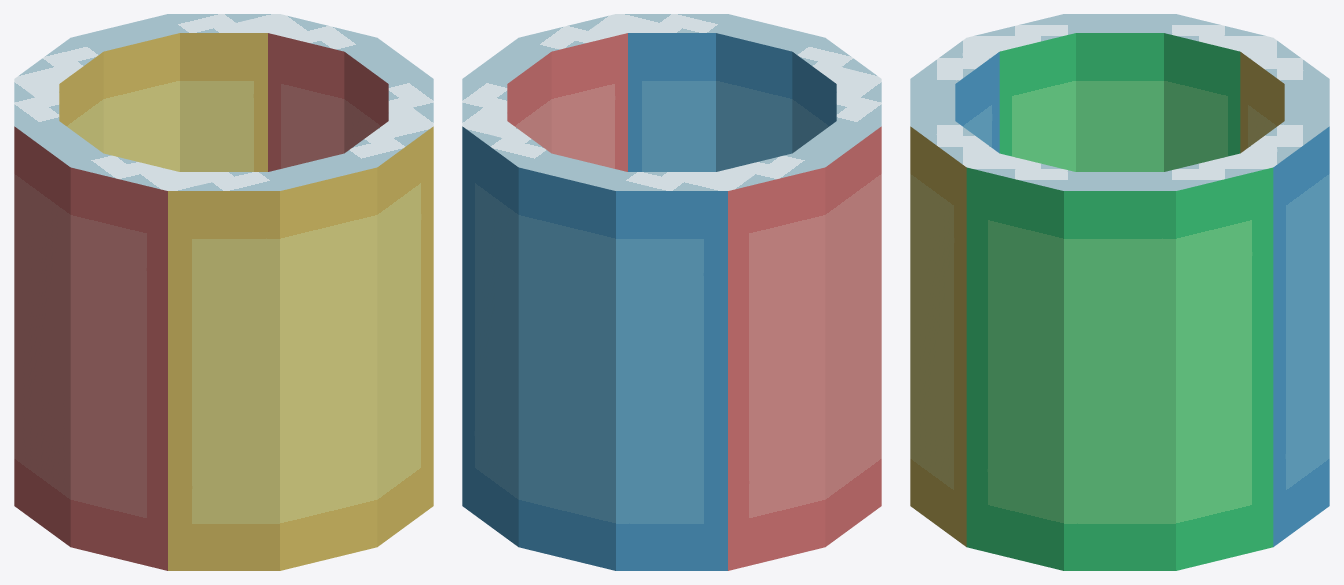
The model's file is cmmm.obj.
3 renders of one model, left to right at view 1: azimuth 30°, elevation 25°; view 2: azimuth 150°, elevation 25°; view 3: azimuth 270°, elevation 25°, orthographic.
Parts seen in each view (by area): view 1: tube; view 2: tube; view 3: tube.
Part boxes in pixels (x1,y1,x2,y2): tube: [14, 14, 433, 570]; tube: [462, 14, 881, 570]; tube: [910, 14, 1329, 570].
Size of the model in its own units: 1 by 1 by 1.
